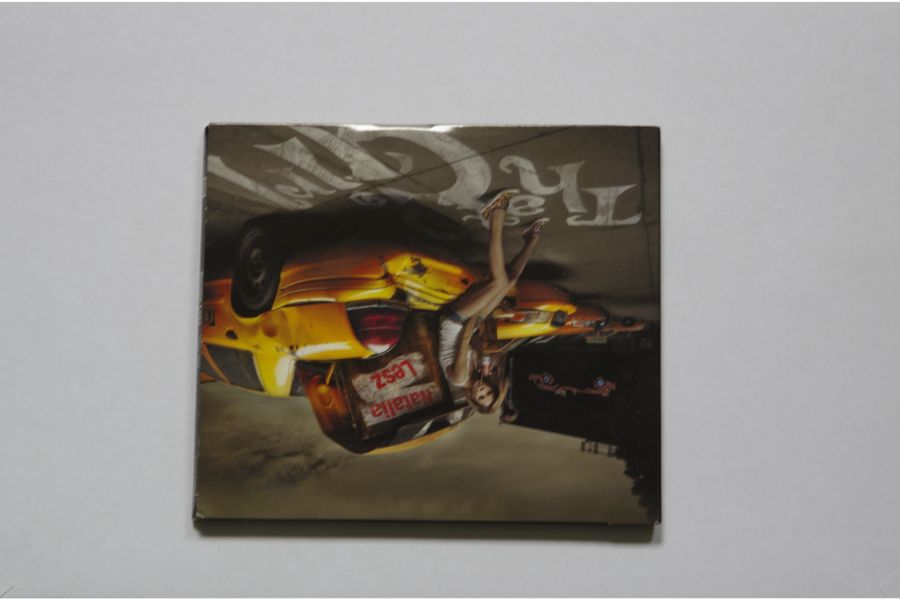album: (191, 122, 665, 531)
